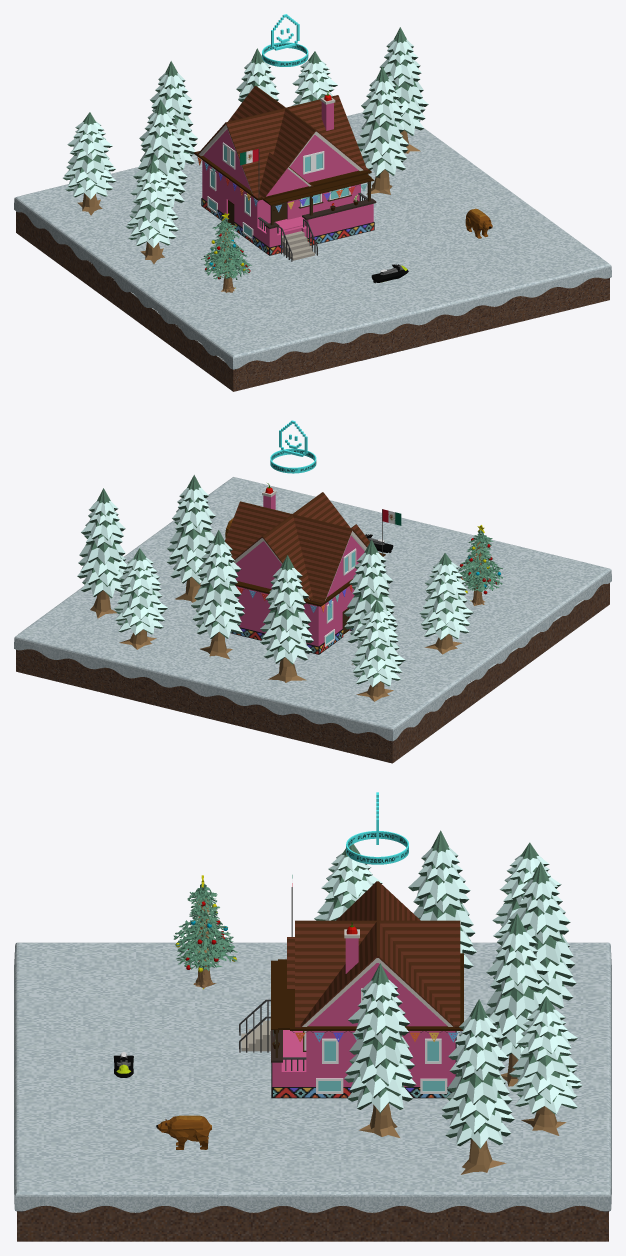
3 renders of one model, top to bottom at view 1: azimuth 30°, elevation 25°; view 2: azimuth 150°, elevation 25°; view 3: azimuth 270°, elevation 25°, orthographic. The views are drawn at different scales.
Visible parts, largest first — view 1: Cube.003, Cube.1005, OBJRANDOM_CHRISTMAS_TREE, TYPE_PREMIUM, ANIMAL_OSO; view 2: Cube.003, Cube.1005, OBJRANDOM_CHRISTMAS_TREE, TYPE_PREMIUM; view 3: Cube.003, Cube.1005, OBJRANDOM_CHRISTMAS_TREE, ANIMAL_OSO, TYPE_PREMIUM.
Part boxes in pixels (bbox=[...]): Cube.003: bbox=[14, 27, 611, 391]; Cube.1005: bbox=[194, 85, 376, 261]; OBJRANDOM_CHRISTMAS_TREE: bbox=[201, 212, 251, 292]; TYPE_PREMIUM: bbox=[262, 14, 308, 66]; ANIMAL_OSO: bbox=[465, 208, 492, 238]; Cube.003: bbox=[14, 475, 611, 763]; Cube.1005: bbox=[225, 483, 401, 654]; OBJRANDOM_CHRISTMAS_TREE: bbox=[458, 525, 503, 605]; TYPE_PREMIUM: bbox=[270, 420, 316, 473]; Cube.003: bbox=[14, 830, 611, 1241]; Cube.1005: bbox=[239, 875, 463, 1098]; OBJRANDOM_CHRISTMAS_TREE: bbox=[173, 875, 237, 989]; ANIMAL_OSO: bbox=[156, 1115, 211, 1149]; TYPE_PREMIUM: bbox=[346, 792, 408, 864].
Bounding box in the file's own units: 4040 × 2467 × 4040.
Materials: 70 (6 with a texture image).
